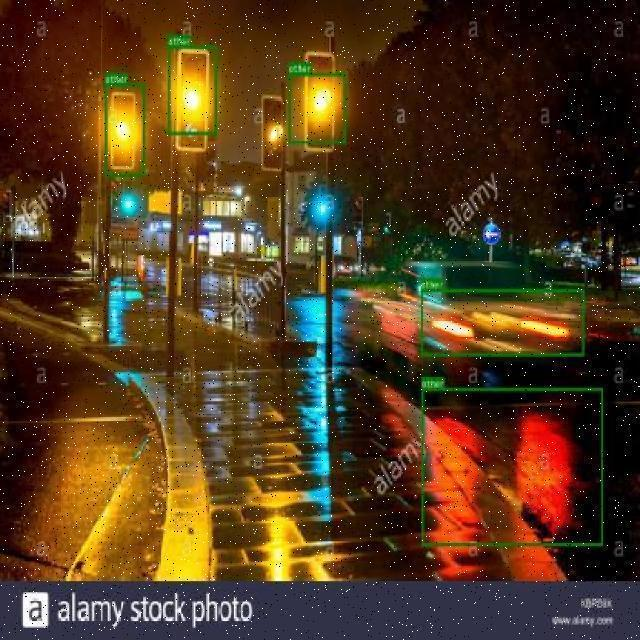Smoke: (420, 387, 602, 545), (419, 288, 584, 356), (167, 46, 216, 134), (288, 73, 346, 142), (104, 82, 144, 176)
